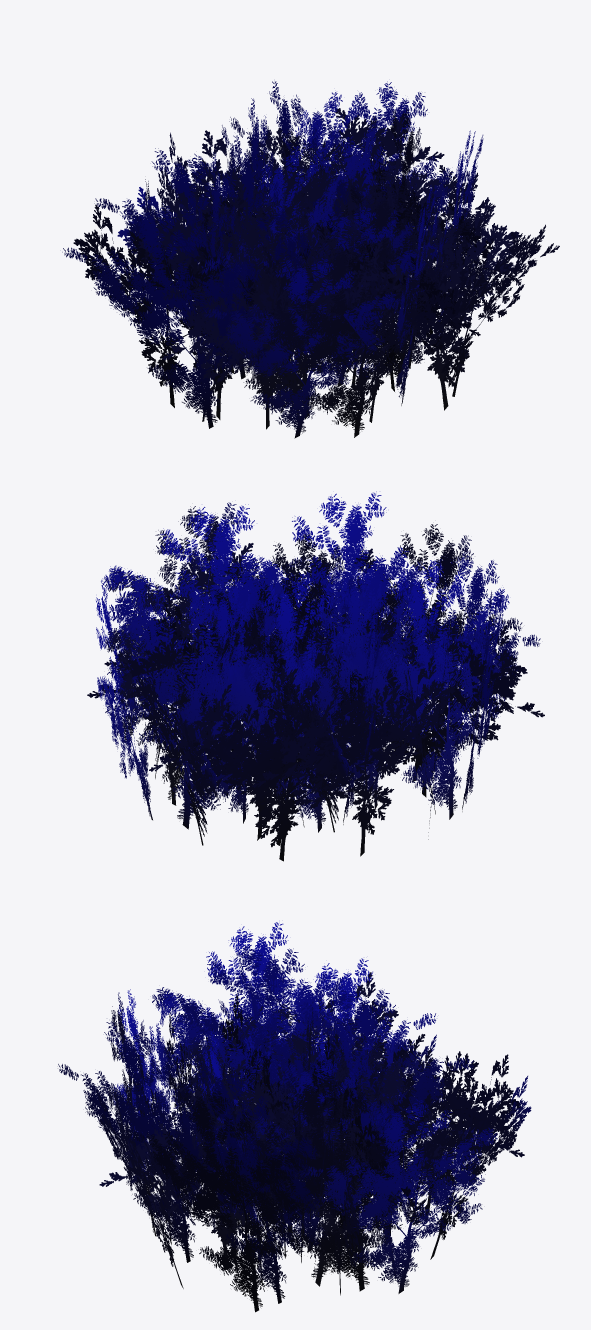
File: SM_Foliage_ShrubTallA_07.fbx
The picture shows the model from 3 angles, top to bottom: view 1: azimuth 30°, elevation 25°; view 2: azimuth 150°, elevation 25°; view 3: azimuth 270°, elevation 25°; orthographic projection.
Parts seen in each view (by area): view 1: SM_Foliage_ShrubTallA_07; view 2: SM_Foliage_ShrubTallA_07; view 3: SM_Foliage_ShrubTallA_07.
Boxes of the visible parts, x1,y1,x2,y2 form: SM_Foliage_ShrubTallA_07: (62, 81, 559, 438); SM_Foliage_ShrubTallA_07: (87, 491, 544, 861); SM_Foliage_ShrubTallA_07: (58, 922, 531, 1312).
Bounding box in the file's own units: 481 × 482 × 261.
